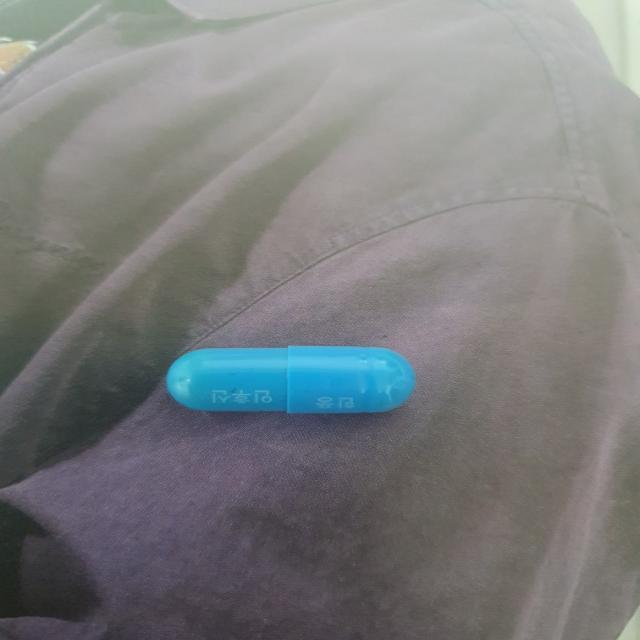pill: (168, 338, 418, 424)
